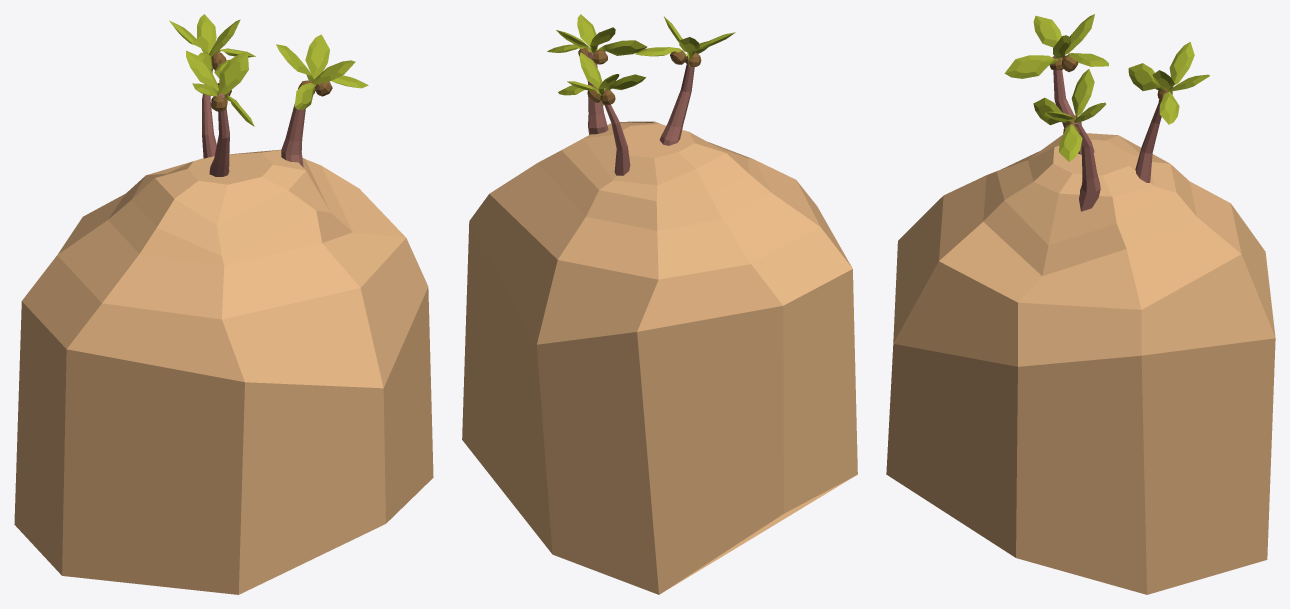
The model's file is trees.fbx.
3 views of the same model, side by side, from view 1: azimuth 30°, elevation 25°; view 2: azimuth 150°, elevation 25°; view 3: azimuth 270°, elevation 25° (orthographic). The views are drawn at different scales.
Visible parts, largest first — view 1: pPlane14; view 2: pPlane14; view 3: pPlane14.
Boxes of the visible parts, x1,y1,x2,y2 form: pPlane14: (14, 14, 433, 594); pPlane14: (462, 14, 857, 594); pPlane14: (886, 14, 1275, 594).
Bounding box in the file's own units: 25.83 × 35.36 × 23.27.
